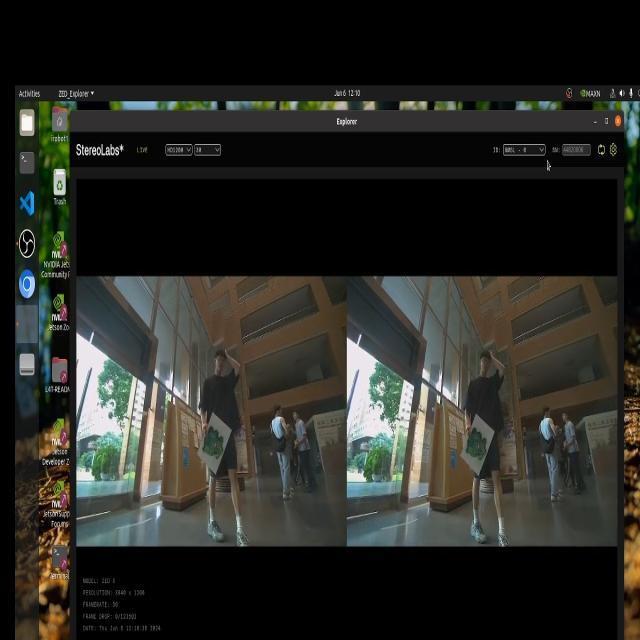green: (471, 416, 486, 458), (208, 426, 226, 459)
